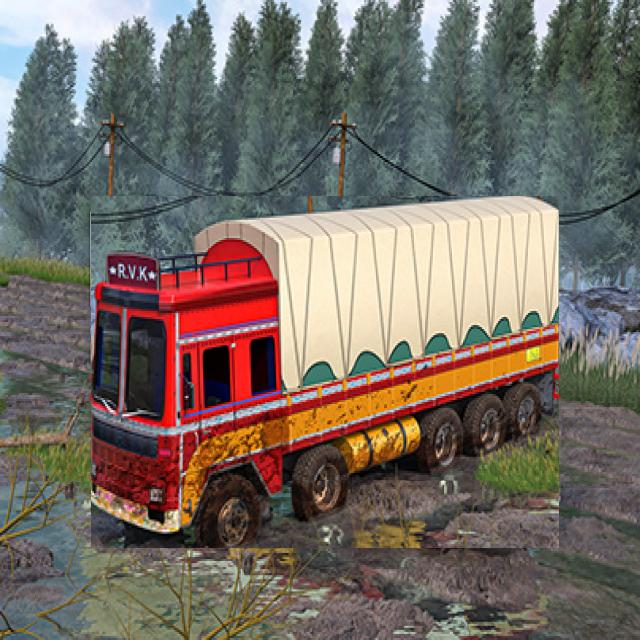truck: (91, 196, 559, 548)
